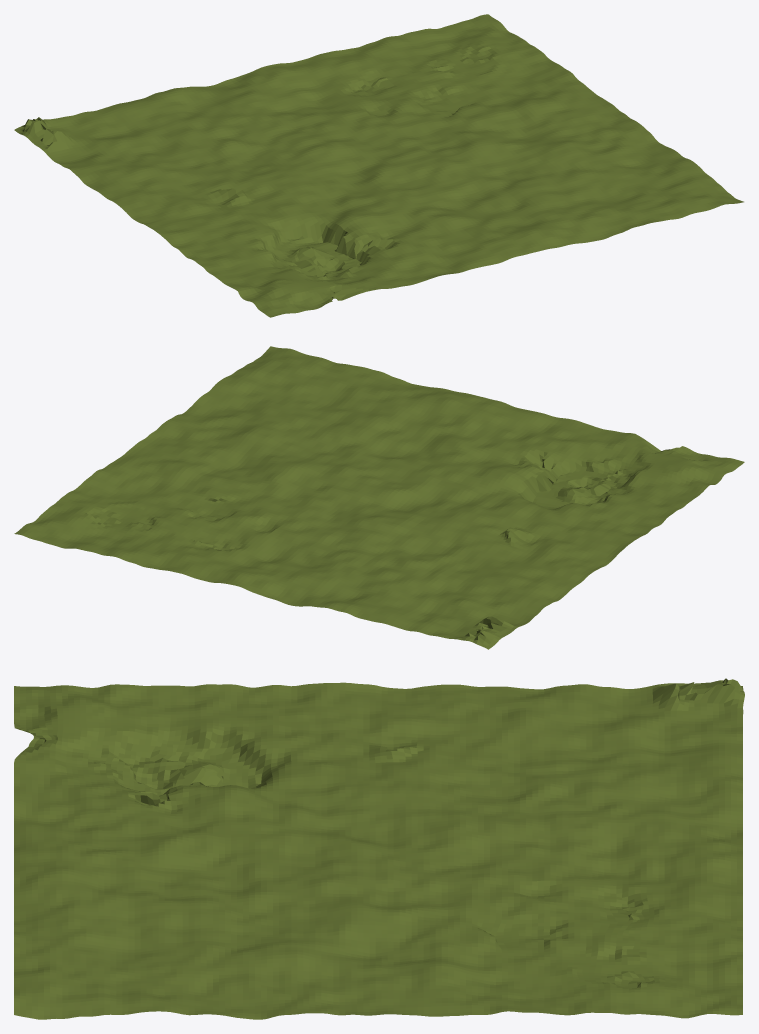
The model's file is GrassGround1.fbx.
The picture shows the model from 3 angles, top to bottom: view 1: azimuth 30°, elevation 25°; view 2: azimuth 150°, elevation 25°; view 3: azimuth 270°, elevation 25°; orthographic projection. The views are drawn at different scales.
Parts seen in each view (by area): view 1: Grass Ground 1; view 2: Grass Ground 1; view 3: Grass Ground 1.
Boxes of the visible parts, <box> form: Grass Ground 1: <box>14,14,743,317</box>; Grass Ground 1: <box>14,346,744,649</box>; Grass Ground 1: <box>14,678,744,1019</box>.
Size of the model in its own units: 9272 by 557 by 8688.
